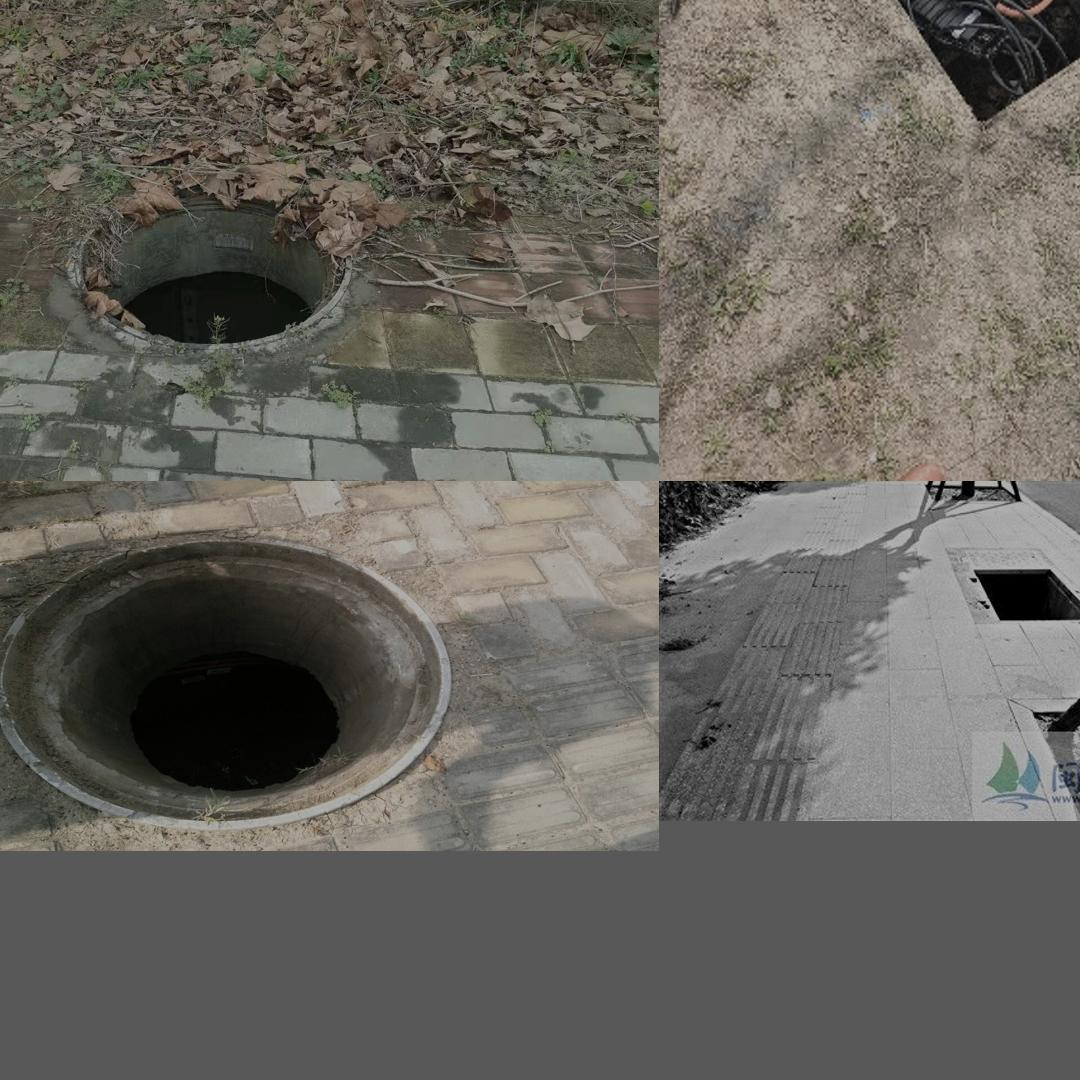lose: (0, 537, 451, 829), (71, 189, 353, 343), (788, 0, 1080, 129), (953, 546, 1080, 632)
